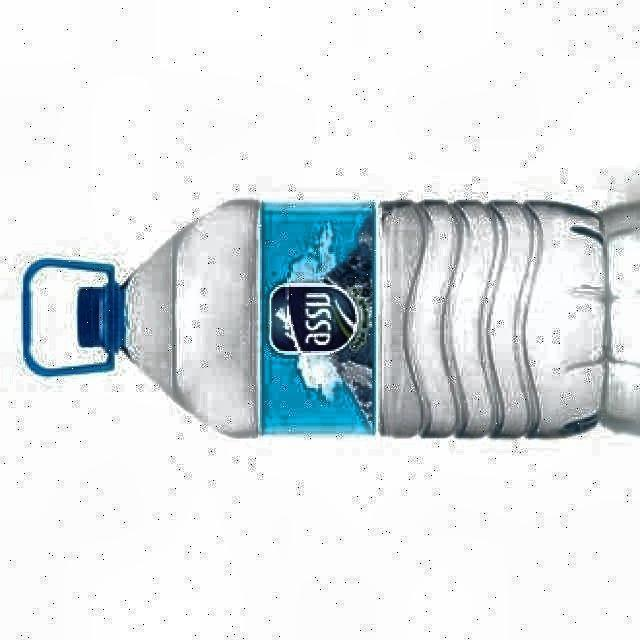plastic: (24, 201, 605, 436)
